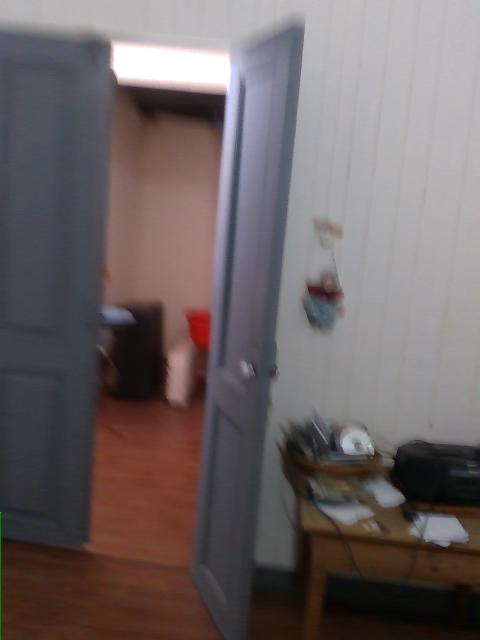door: (193, 20, 304, 640), (1, 20, 108, 552)
